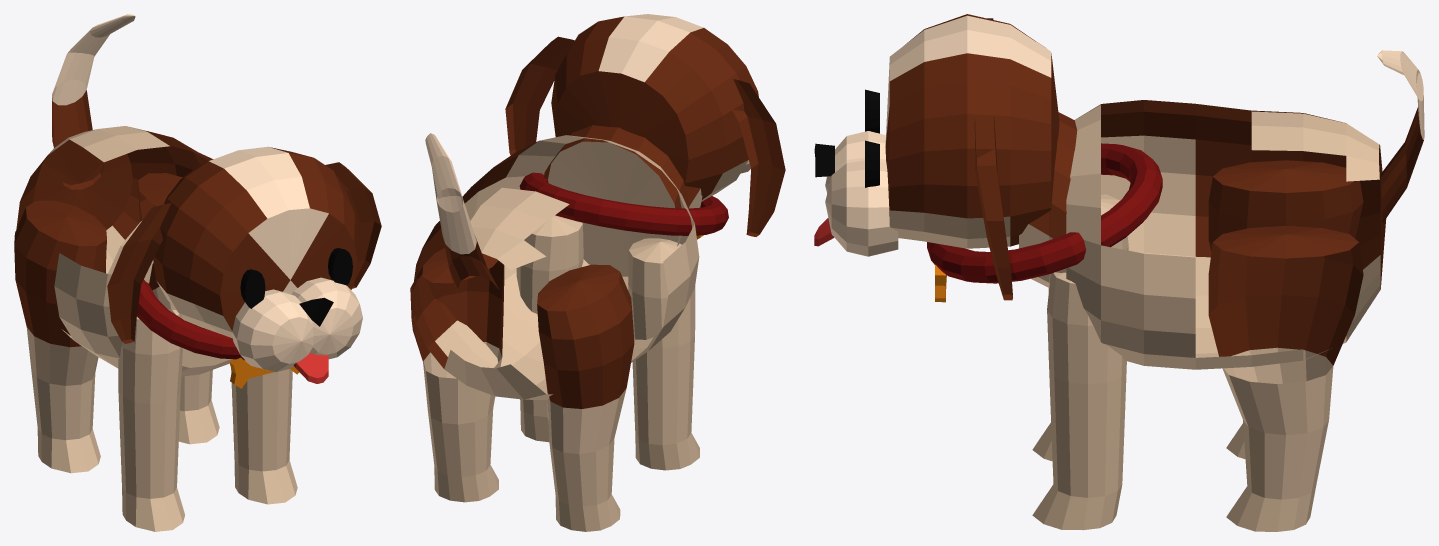
Rendered from DigPals_Dog.obj.
The picture shows the model from 3 angles, left to right: view 1: azimuth 30°, elevation 25°; view 2: azimuth 150°, elevation 25°; view 3: azimuth 270°, elevation 25°; orthographic projection. The views are drawn at different scales.
Visible parts, largest first — view 1: Dog_Body, Dog_Collar, Dog_Eyes, Dog_Tongue, Dog_Tag, Dog_Nose; view 2: Dog_Body, Dog_Collar; view 3: Dog_Body, Dog_Collar, Dog_Eyes.
Boxes of the visible parts, bbox=[...] form: Dog_Body: bbox=[14, 14, 381, 531]; Dog_Collar: bbox=[137, 279, 244, 359]; Dog_Eyes: bbox=[240, 248, 352, 308]; Dog_Tongue: bbox=[293, 353, 328, 383]; Dog_Tag: bbox=[229, 357, 299, 388]; Dog_Nose: bbox=[299, 297, 333, 326]; Dog_Body: bbox=[410, 14, 785, 531]; Dog_Collar: bbox=[519, 172, 728, 235]; Dog_Body: bbox=[825, 14, 1424, 531]; Dog_Collar: bbox=[927, 143, 1162, 283]; Dog_Eyes: bbox=[865, 89, 879, 187].
Bounding box in the file's own units: 1.71 × 2.35 × 2.83.
